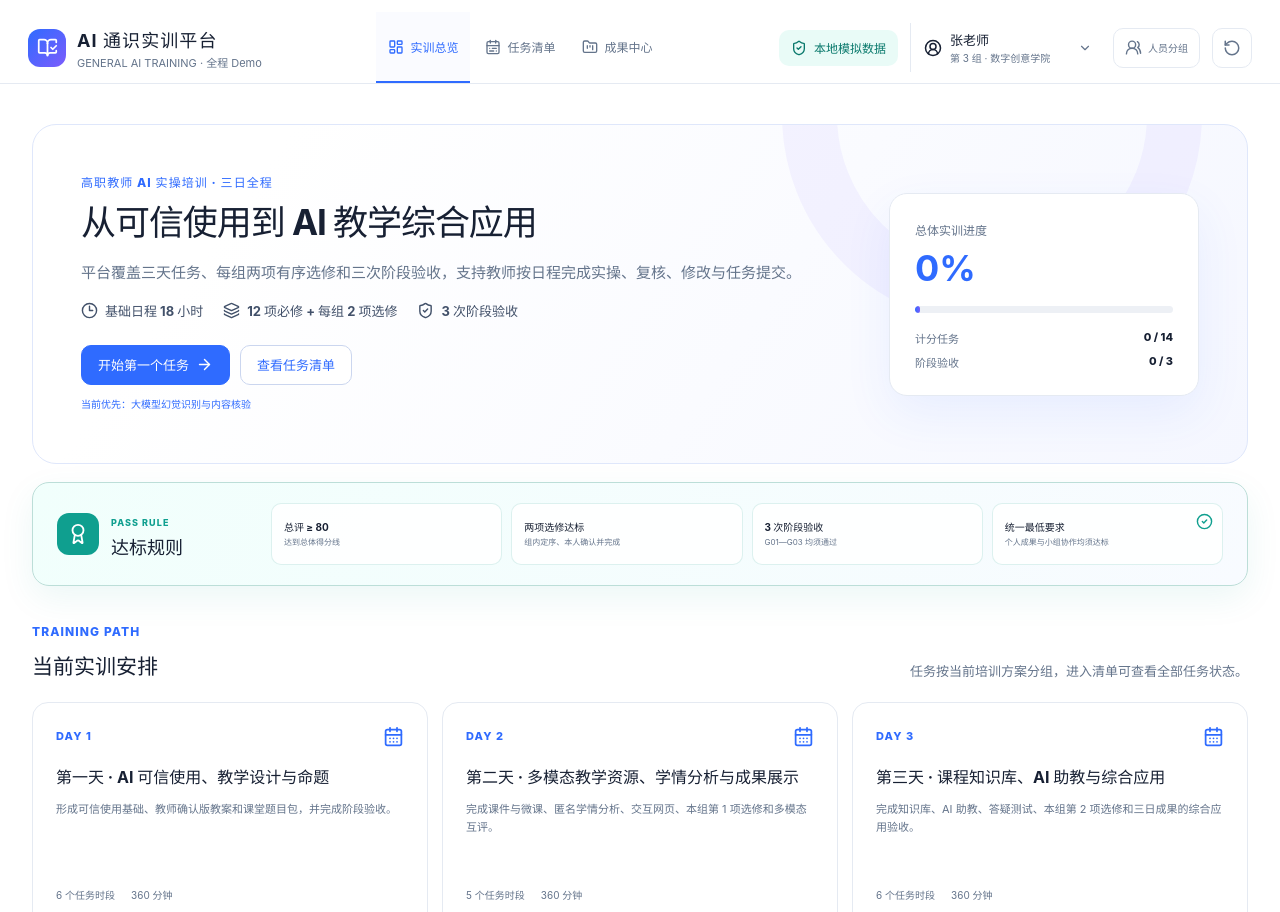
AI 通识实训平台 Demo 关键交互 › M01 与 M02 未通过时也可直接进入 M03 并开始设计
Click the button "查看任务清单": (296, 365) [240,345,352,385]
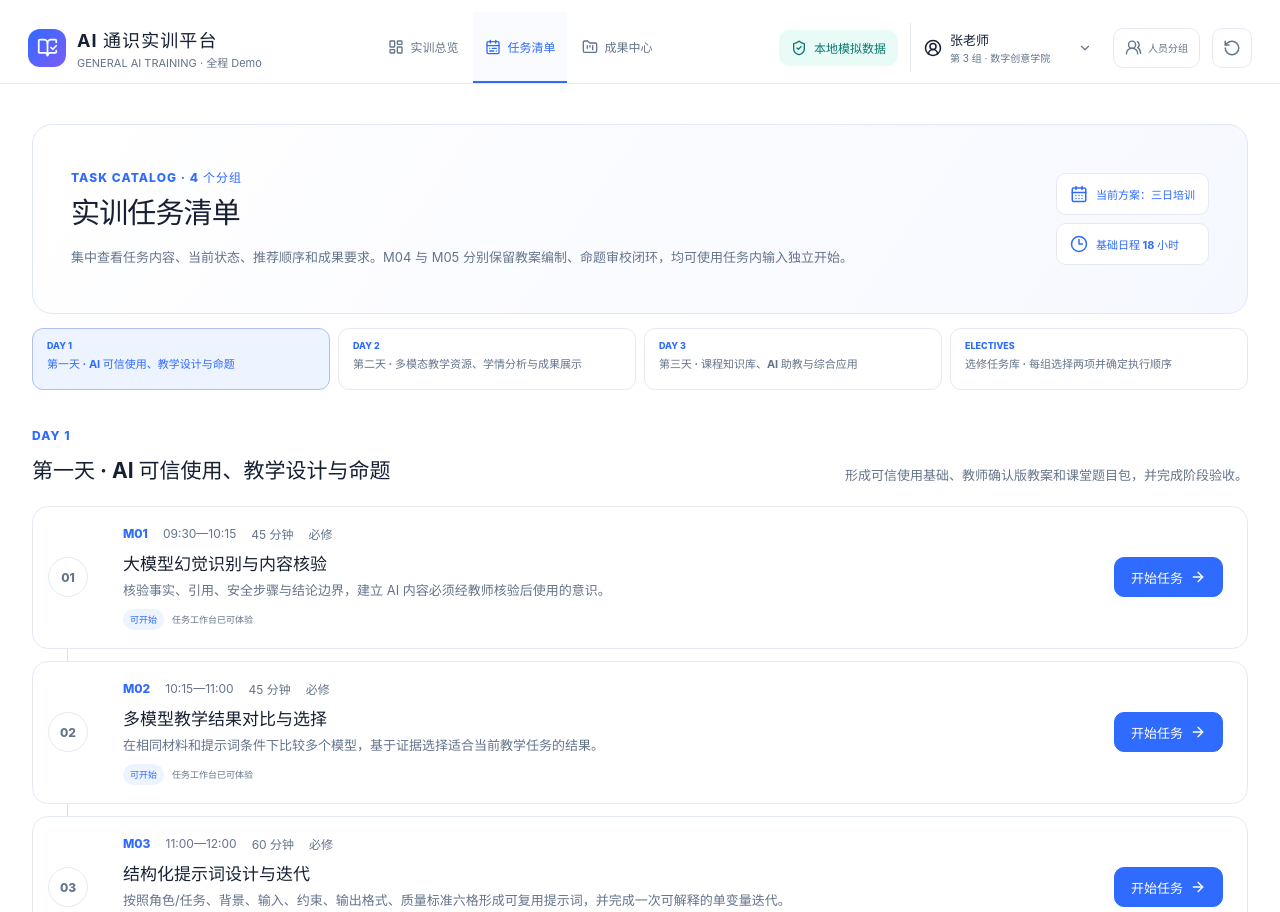
expect the text "M03" is shown: met, box [123,836,150,851]
Click the button "开始任务" in the row of "结构化提示词设计与迭代": (1168, 887) [1114,867,1223,907]
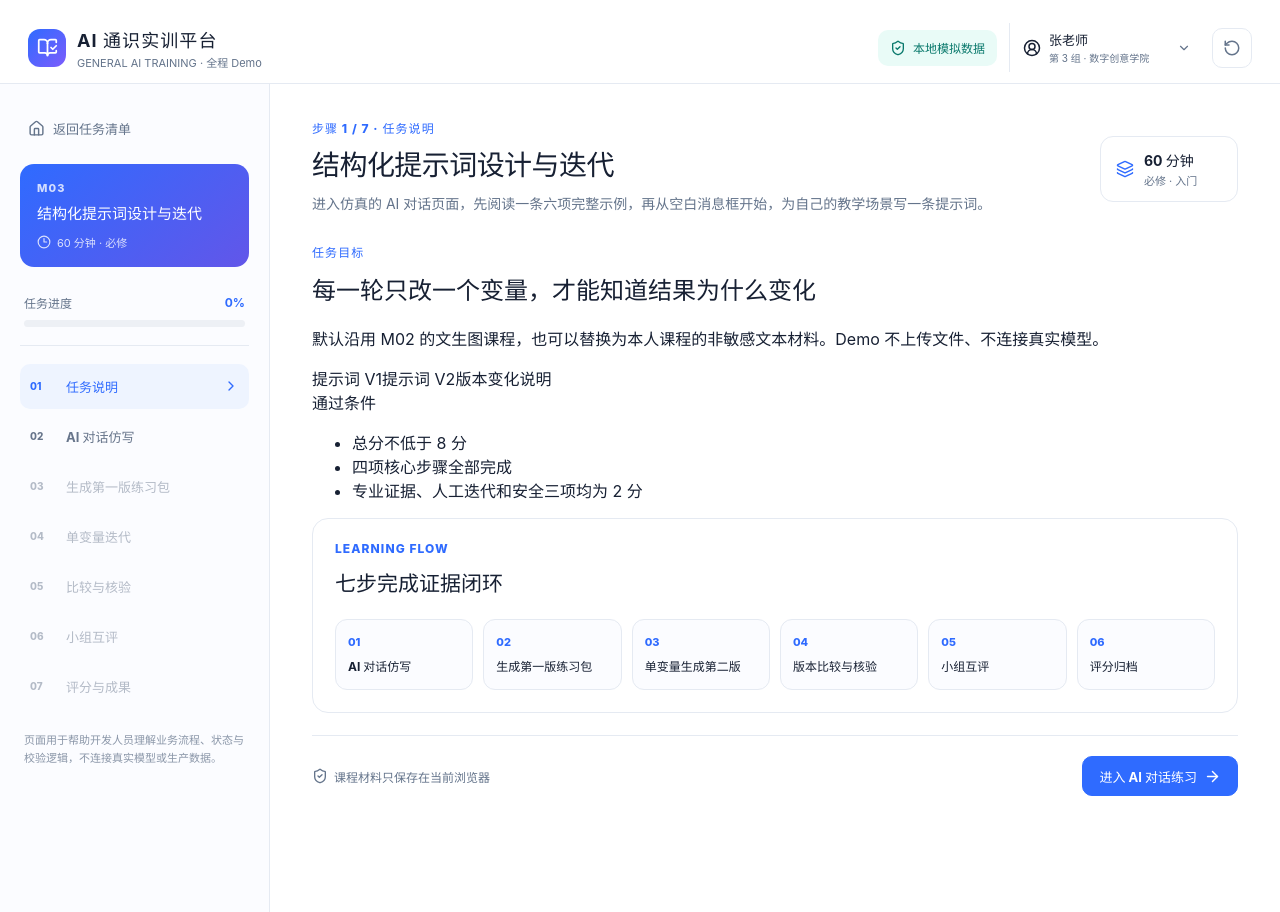
expect the heading "结构化提示词设计与迭代" is shown: met, box [312,148,614,182]
expect the button "进入 AI 对话练习" is enabled: met, box [1082,756,1238,796]
